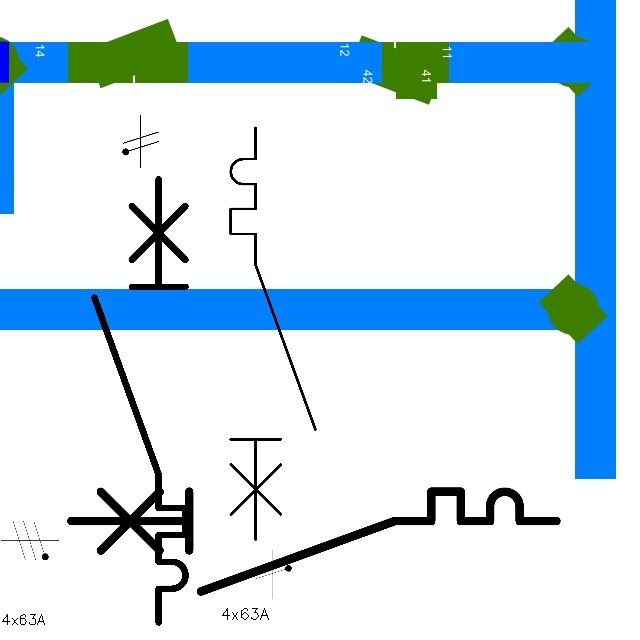interruptor_termomagnetico: (58, 479, 568, 604), (83, 167, 197, 633), (220, 117, 326, 550)
